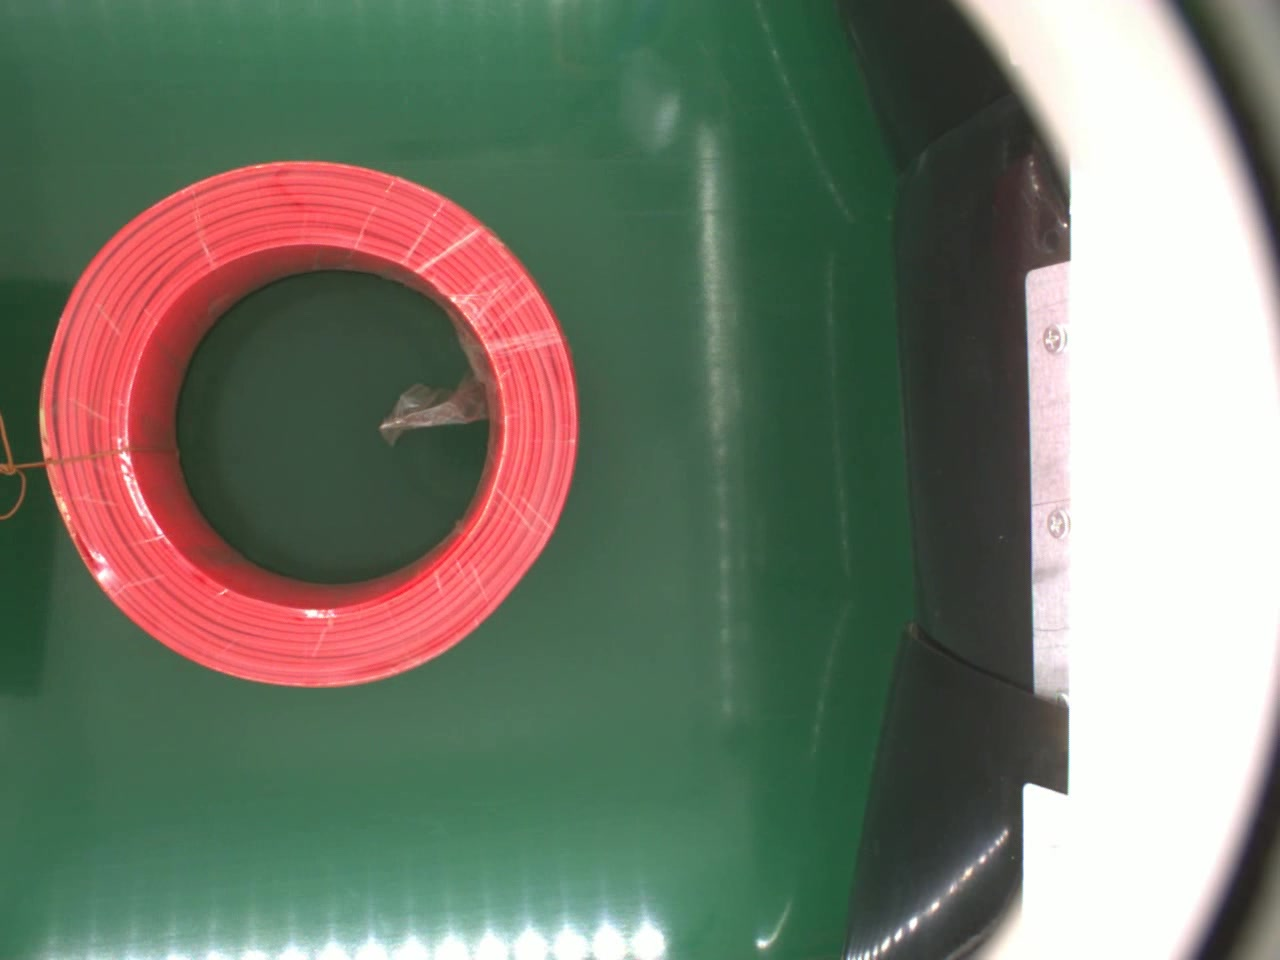red: (36, 150, 579, 688)
